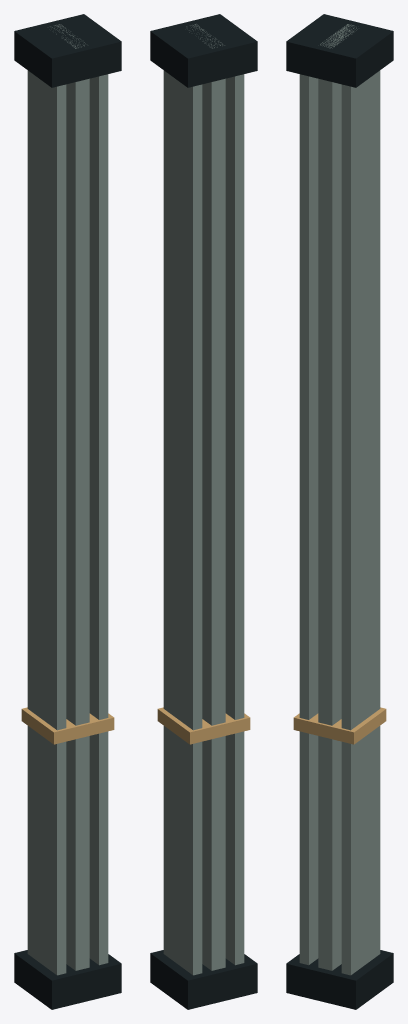
The model's file is rib-3p9.glb.
3 views of the same model, side by side, from view 1: azimuth 30°, elevation 25°; view 2: azimuth 210°, elevation 25°; view 3: azimuth 330°, elevation 25° (orthographic).
Parts seen in each view (by area): view 1: rib-3p9; view 2: rib-3p9; view 3: rib-3p9.
Part boxes in pixels (x1,y1,x2,y2): rib-3p9: (14, 14, 121, 1009); rib-3p9: (150, 14, 257, 1009); rib-3p9: (286, 14, 393, 1009).
Size of the model in its own units: 0.3 by 3.9 by 0.28.
